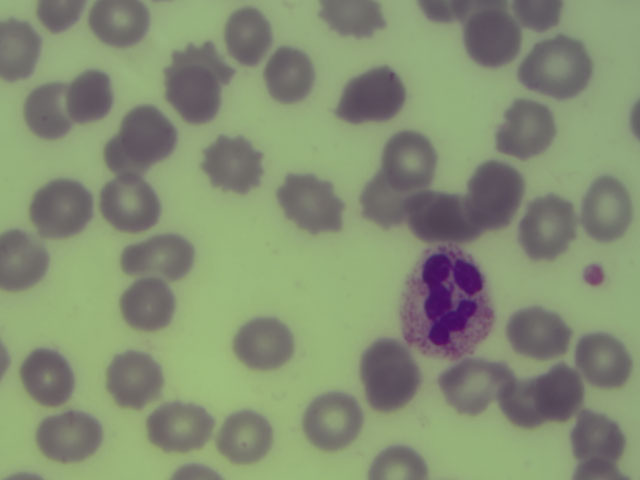Platelets: (585, 264, 605, 289)
RBC: (521, 33, 594, 98), (341, 68, 411, 128), (445, 354, 509, 417), (36, 410, 109, 465), (279, 180, 348, 237), (26, 177, 95, 234), (362, 338, 416, 409), (584, 174, 640, 240), (24, 346, 78, 413), (474, 159, 526, 227), (525, 198, 581, 261), (390, 127, 449, 185), (307, 389, 363, 450), (413, 182, 471, 238), (512, 304, 570, 360), (168, 66, 223, 124), (123, 106, 180, 161), (155, 399, 212, 453), (105, 180, 164, 232), (88, 1, 156, 46), (129, 230, 191, 279), (220, 411, 273, 467), (175, 37, 234, 86), (204, 141, 265, 188), (582, 331, 632, 388), (108, 355, 163, 406), (505, 104, 555, 160), (2, 232, 49, 291), (238, 319, 297, 365), (572, 411, 624, 460), (21, 88, 69, 141), (231, 13, 277, 68), (125, 277, 175, 325), (467, 17, 516, 65), (268, 51, 311, 105), (546, 368, 587, 424), (504, 379, 548, 430), (364, 169, 404, 225), (370, 445, 432, 480), (320, 1, 383, 35), (74, 74, 115, 123), (423, 1, 504, 25), (108, 137, 160, 173), (2, 23, 38, 73), (513, 2, 567, 28), (39, 1, 82, 28), (576, 458, 624, 480), (172, 460, 221, 480)
WBC: (405, 243, 496, 354)
